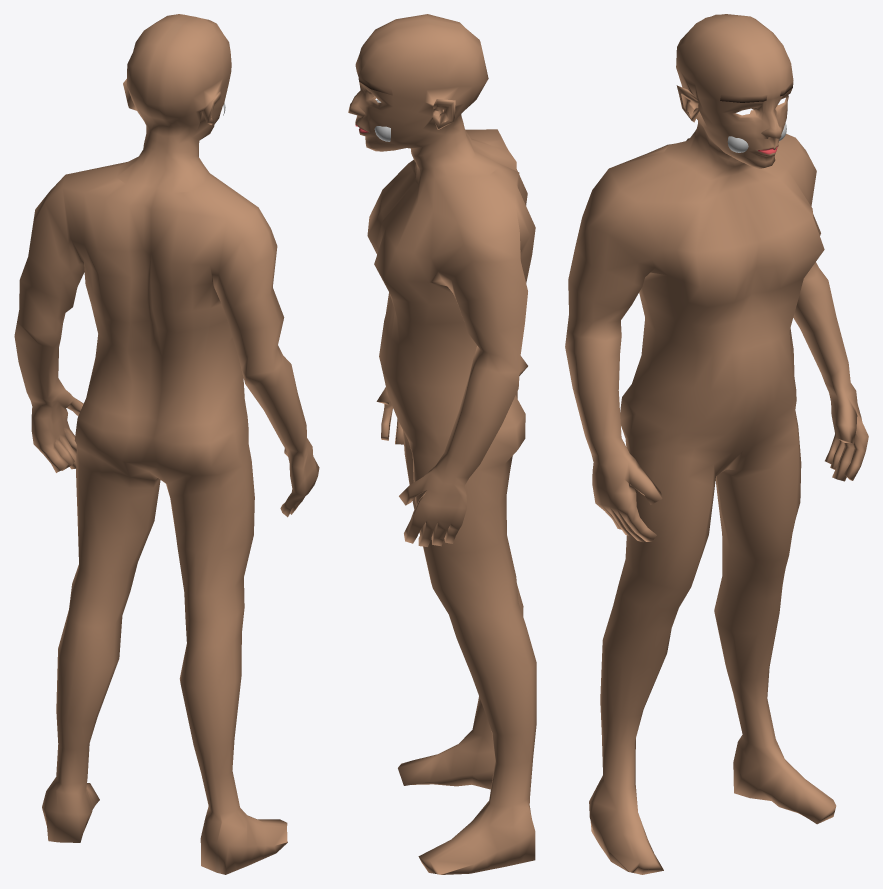
Rendered from boneco10.glb.
3 views of the same model, side by side, from view 1: azimuth 30°, elevation 25°; view 2: azimuth 150°, elevation 25°; view 3: azimuth 270°, elevation 25° (orthographic). The views are drawn at different scales.
Visible parts, largest first — view 1: Plane.011; view 2: Plane.011; view 3: Plane.011.
Part boxes in pixels (x1=…): Plane.011: x1=14, y1=14, x2=319, y2=874; Plane.011: x1=348, y1=14, x2=536, y2=874; Plane.011: x1=565, y1=14, x2=868, y2=874.
Bounding box in the file's own units: 0.9983 × 3.47 × 1.16.
